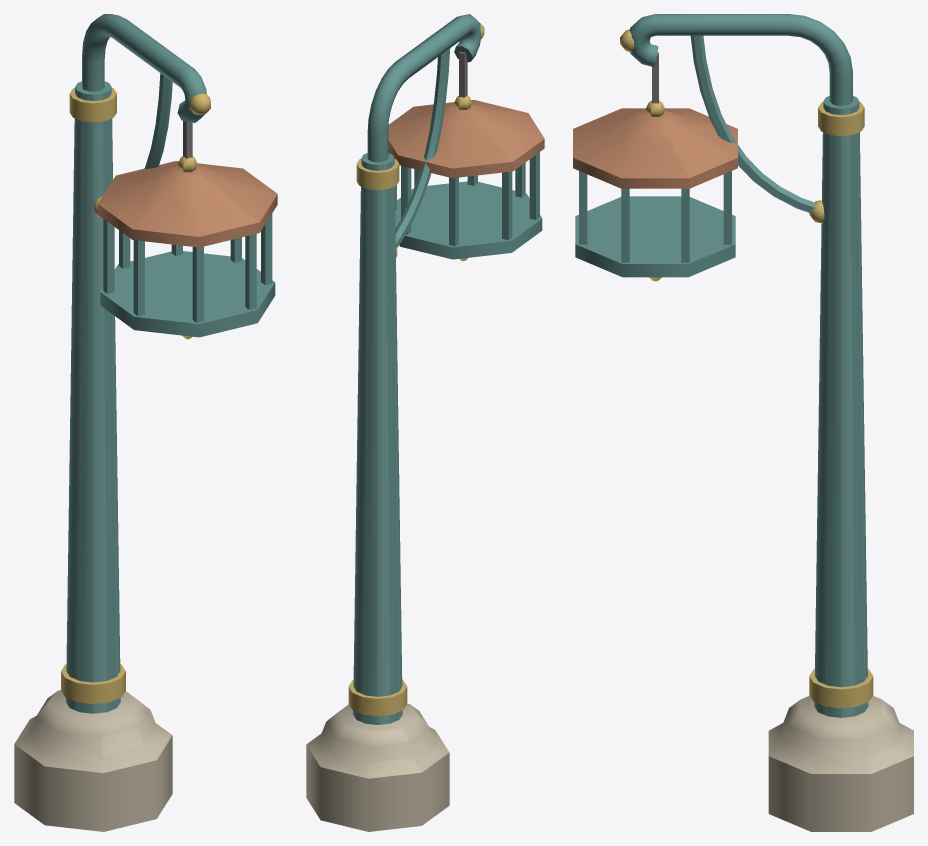
Rendered from lamp_hook.glb.
3 renders of one model, left to right at view 1: azimuth 30°, elevation 25°; view 2: azimuth 150°, elevation 25°; view 3: azimuth 270°, elevation 25°, orthographic. The views are drawn at different scales.
Visible parts, largest first — view 1: lamp_hook; view 2: lamp_hook; view 3: lamp_hook.
Boxes of the visible parts, x1=… form: lamp_hook: x1=14, y1=14, x2=277, y2=831; lamp_hook: x1=306, y1=14, x2=544, y2=831; lamp_hook: x1=573, y1=14, x2=913, y2=831.
Bounding box in the file's own units: 2.84 × 14.95 × 5.87.
